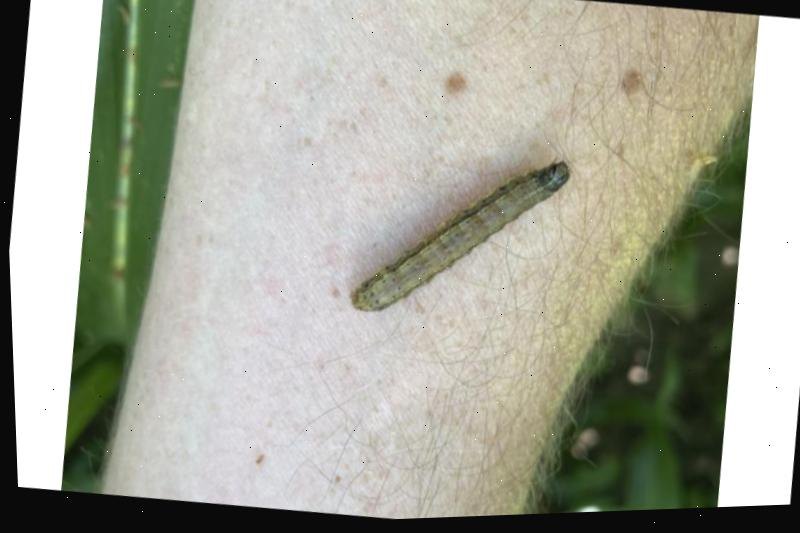fall-armyworm: (349, 165, 572, 316)
